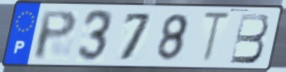3: (75, 8, 114, 65)
7: (121, 12, 154, 62)
8: (155, 12, 191, 63)
B: (229, 12, 271, 65)
P: (32, 9, 79, 62)
T: (200, 10, 234, 66)
